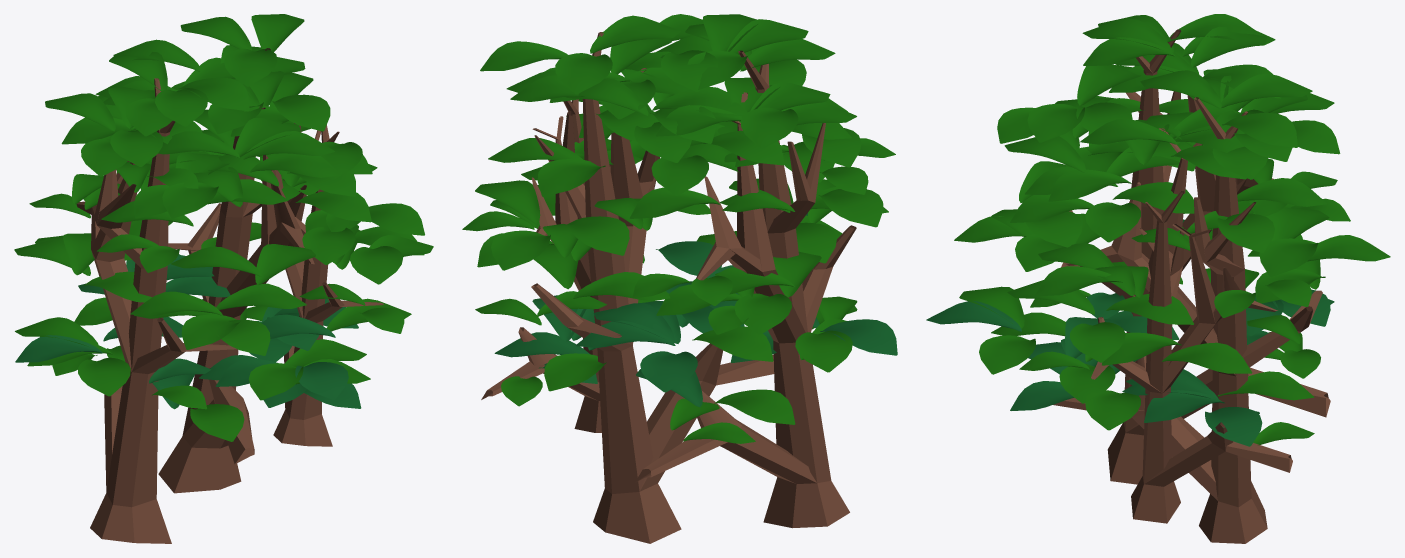
The model's file is drzewo.obj.
The picture shows the model from 3 angles, left to right: view 1: azimuth 30°, elevation 25°; view 2: azimuth 150°, elevation 25°; view 3: azimuth 270°, elevation 25°; orthographic projection. The views are drawn at different scales.
Visible parts, largest first — view 1: Cylinder.042, Cylinder.043, Cylinder.041, Circle.558, Circle.636, Circle.578, Circle.600, Circle.618, Circle.672, Circle.640, Circle.706, Circle.620 (+64 smaller); view 2: Cylinder.042, Cylinder.043, Cylinder.041, Circle.601, Circle.676, Circle.605, Circle.663, Circle.607, Circle.685, Circle.586, Circle.706, Circle.678 (+63 smaller); view 3: Cylinder.043, Cylinder.041, Cylinder.042, Circle.698, Circle.682, Circle.652, Circle.639, Circle.685, Circle.536, Circle.619, Circle.654, Circle.636 (+65 smaller).
Boxes of the visible parts, x1,y1,x2,y2 form: Cylinder.042: (76,78,236,543); Cylinder.043: (158,48,314,493); Cylinder.041: (273,125,383,446); Circle.558: (272,94,330,131); Circle.636: (243,131,334,159); Circle.578: (216,283,306,310); Circle.600: (78,357,130,396); Circle.618: (190,404,244,441); Circle.672: (155,88,208,126); Circle.640: (350,246,403,284); Circle.706: (224,48,277,86); Circle.620: (295,362,348,400); Cylinder.042: (635,50,856,528); Cylinder.043: (531,32,774,543); Cylinder.041: (481,99,610,432); Circle.601: (714,389,795,424); Circle.676: (564,216,629,255); Circle.605: (795,330,852,372); Circle.663: (640,351,697,392); Circle.607: (734,293,791,334); Circle.685: (555,53,612,94); Circle.586: (741,107,798,148); Circle.706: (590,15,681,53); Circle.678: (491,230,550,270); Cylinder.043: (1053,97,1322,543); Cylinder.041: (1091,191,1292,523); Cylinder.042: (1061,29,1330,484); Circle.698: (1162,342,1252,373); Circle.682: (1222,112,1297,147); Circle.652: (1237,178,1326,206); Circle.639: (1069,322,1125,362); Circle.685: (1221,73,1312,107); Circle.536: (1085,202,1140,242); Circle.619: (979,335,1035,374); Circle.654: (1205,407,1262,446); Circle.636: (1027,104,1084,142).
Bounding box in the file's own units: 1.07 × 1.19 × 1.07.
45 materials, 30 textured.
